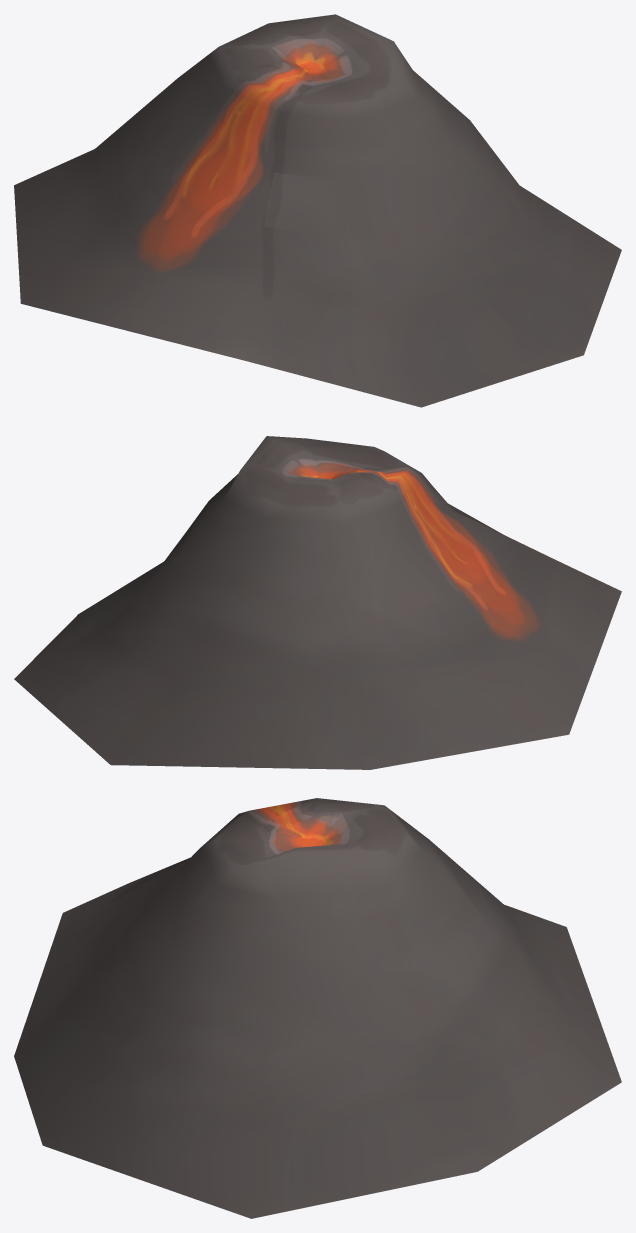
File: Volcano.fbx
The picture shows the model from 3 angles, top to bottom: view 1: azimuth 30°, elevation 25°; view 2: azimuth 150°, elevation 25°; view 3: azimuth 270°, elevation 25°; orthographic projection. The views are drawn at different scales.
Parts seen in each view (by area): view 1: Volcano; view 2: Volcano; view 3: Volcano.
Part boxes in pixels (x1,y1,x2,y2): Volcano: (14, 14, 621, 407); Volcano: (14, 436, 621, 769); Volcano: (14, 798, 621, 1218).
Bounding box in the file's own units: 1550 × 667 × 1438.
